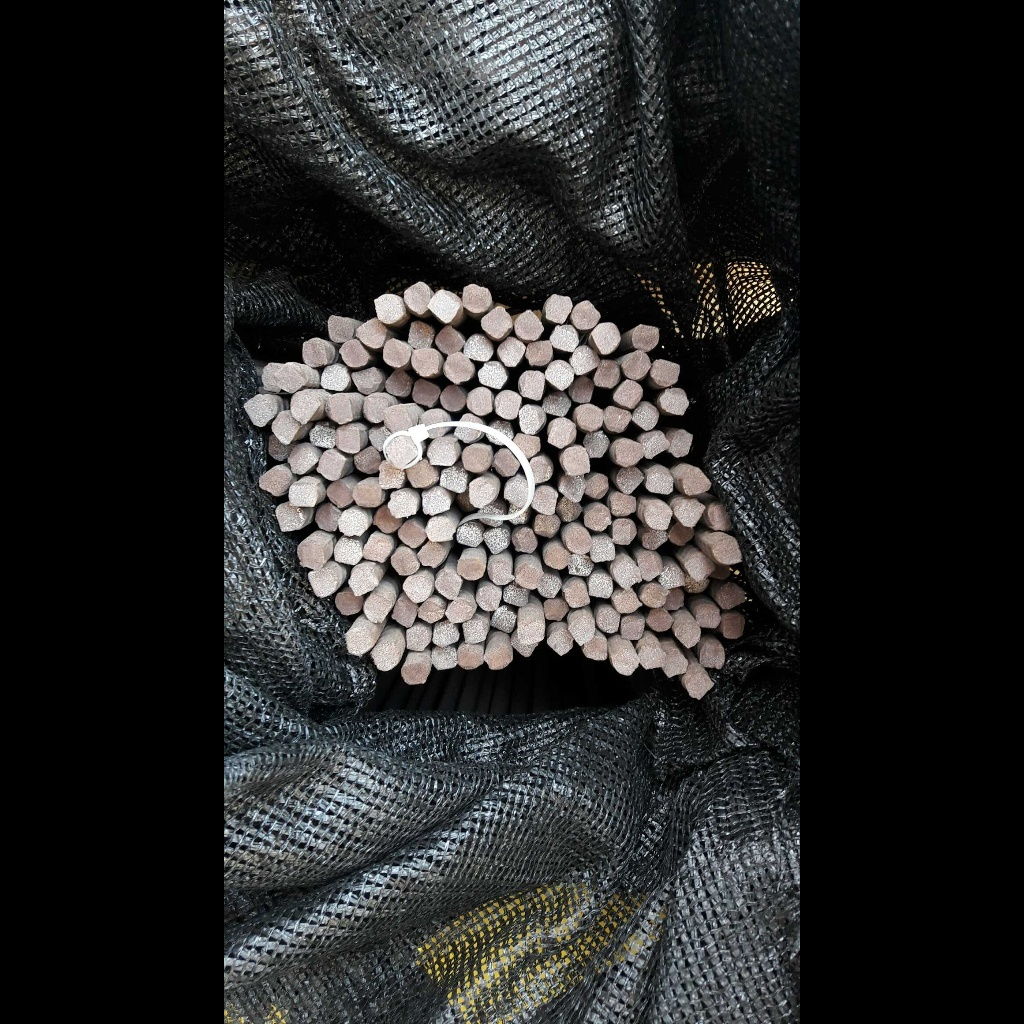dipstick: (674, 498, 705, 530), (479, 307, 512, 337), (680, 467, 713, 497), (243, 395, 275, 425), (384, 438, 417, 467), (636, 431, 669, 460), (591, 321, 621, 352), (259, 466, 290, 496), (356, 317, 385, 349), (428, 290, 457, 322), (611, 556, 640, 588), (270, 412, 298, 445), (492, 390, 521, 421), (408, 459, 439, 488), (562, 578, 591, 609), (658, 388, 690, 416), (711, 536, 744, 563), (461, 283, 491, 312), (275, 362, 304, 392), (620, 351, 650, 380), (462, 443, 491, 473), (337, 509, 367, 538), (443, 353, 471, 384), (518, 404, 546, 435), (707, 502, 735, 533), (545, 359, 572, 391), (289, 391, 316, 423), (467, 385, 494, 417), (405, 281, 430, 315), (325, 394, 354, 423), (420, 408, 449, 437), (455, 413, 484, 442), (388, 489, 417, 518), (561, 447, 590, 476), (603, 404, 632, 433), (645, 467, 674, 496), (374, 294, 404, 322), (436, 324, 464, 354), (516, 310, 544, 340), (650, 359, 680, 387), (517, 370, 544, 401), (427, 439, 458, 466), (612, 381, 643, 408), (549, 416, 575, 448), (609, 643, 635, 675), (326, 314, 354, 343), (477, 360, 506, 388), (632, 323, 661, 351), (276, 502, 304, 531), (296, 541, 325, 569), (585, 504, 614, 532), (545, 293, 572, 323), (468, 478, 495, 508), (632, 400, 659, 430), (287, 483, 319, 508), (519, 610, 544, 642), (669, 429, 694, 461), (465, 333, 493, 361), (575, 404, 603, 432), (411, 349, 440, 376), (498, 337, 525, 366), (362, 395, 389, 424), (317, 451, 344, 480), (378, 461, 405, 490), (363, 535, 392, 562), (595, 359, 621, 389), (352, 368, 383, 393), (306, 570, 337, 595), (570, 613, 595, 644), (302, 337, 329, 365), (550, 325, 578, 352), (571, 346, 598, 374), (336, 426, 363, 454), (333, 538, 361, 565), (392, 547, 419, 575), (564, 526, 591, 554), (644, 501, 671, 529), (382, 338, 408, 367), (353, 481, 382, 507), (494, 448, 520, 477), (511, 630, 537, 659), (717, 582, 746, 608), (351, 449, 381, 474), (636, 551, 661, 581), (614, 441, 645, 465), (574, 300, 601, 327), (440, 385, 467, 412), (374, 506, 401, 533), (476, 584, 503, 611), (413, 379, 439, 407), (542, 391, 570, 417), (290, 445, 316, 473), (325, 480, 353, 506), (504, 478, 532, 504), (488, 557, 514, 585), (675, 620, 701, 648), (382, 408, 411, 433), (314, 503, 339, 532), (402, 577, 431, 602), (435, 572, 460, 601), (456, 556, 485, 581), (548, 627, 573, 656), (307, 425, 337, 449), (322, 364, 349, 390), (486, 419, 513, 445), (457, 645, 484, 671), (583, 432, 609, 459), (615, 467, 642, 493), (339, 341, 367, 366), (386, 370, 411, 398), (343, 629, 371, 654), (484, 646, 512, 671), (662, 650, 687, 678), (686, 673, 714, 698), (409, 320, 433, 349), (700, 641, 724, 670), (685, 554, 715, 577), (418, 541, 444, 567), (516, 563, 542, 589), (611, 519, 637, 545), (641, 583, 667, 609), (638, 645, 664, 671), (527, 341, 554, 366), (439, 467, 466, 492), (399, 520, 424, 547), (485, 527, 510, 554), (348, 569, 375, 594), (373, 643, 398, 670), (490, 608, 515, 635), (566, 553, 593, 578), (560, 475, 585, 502), (609, 492, 637, 516), (613, 589, 642, 612), (515, 433, 541, 458), (334, 592, 360, 617), (364, 595, 389, 621), (584, 636, 609, 662), (558, 497, 583, 523), (592, 537, 617, 563), (694, 604, 720, 629), (366, 425, 393, 449), (422, 490, 449, 514), (393, 599, 417, 626), (621, 614, 645, 641), (513, 527, 538, 552), (427, 517, 453, 541), (585, 474, 609, 500), (588, 574, 612, 600), (721, 614, 745, 640), (570, 376, 593, 403), (503, 583, 530, 606), (531, 514, 559, 536), (458, 523, 483, 547), (418, 600, 443, 624), (544, 546, 568, 571), (534, 487, 557, 513), (407, 625, 430, 651), (459, 620, 485, 643), (647, 608, 673, 631), (664, 586, 686, 613), (261, 362, 280, 393), (543, 598, 567, 622), (528, 458, 553, 481), (537, 574, 560, 599), (432, 623, 458, 645), (669, 522, 695, 544), (445, 601, 473, 621), (478, 505, 502, 528), (432, 647, 456, 670), (683, 574, 710, 594), (660, 564, 683, 587), (268, 436, 290, 460), (598, 609, 620, 633), (506, 503, 529, 525), (642, 529, 668, 548), (402, 663, 427, 682), (457, 492, 475, 514), (712, 563, 731, 582)
